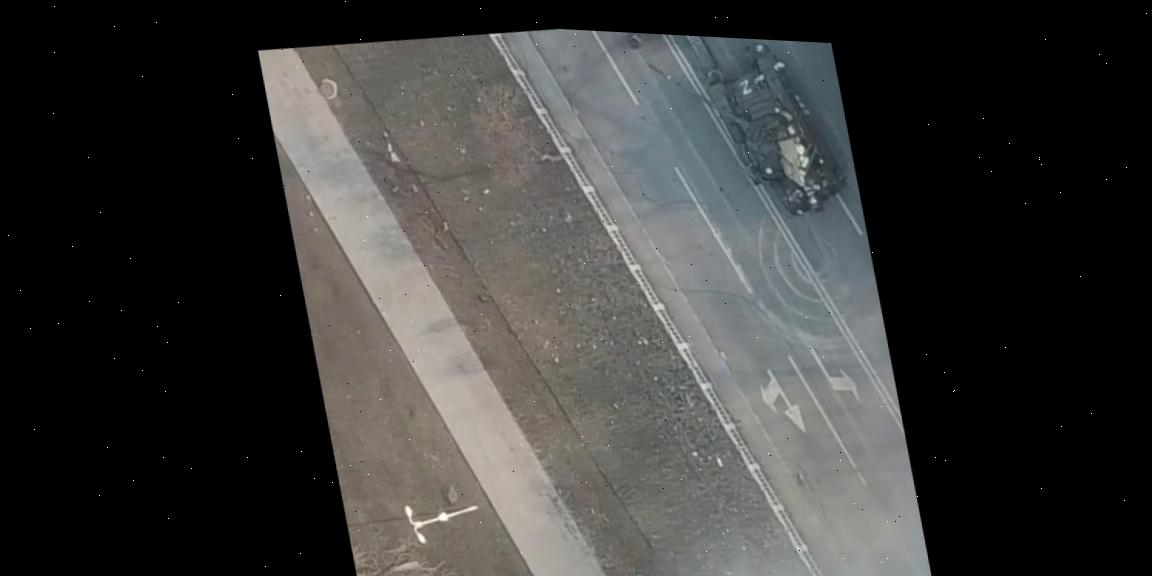tank: (642, 37, 854, 233)
